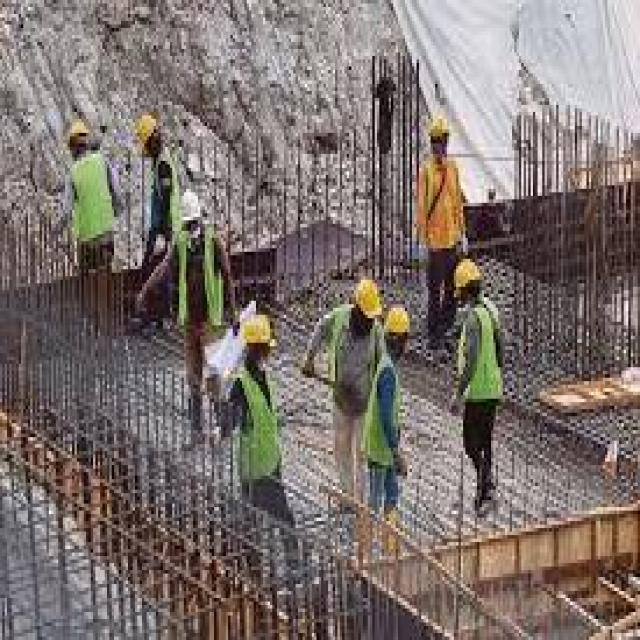Reflective-Jacket: (226, 364, 298, 496), (168, 224, 235, 350), (358, 353, 416, 472), (63, 150, 121, 259), (454, 300, 509, 412), (414, 154, 468, 259), (144, 147, 191, 238)
Safety-Helmet: (230, 297, 284, 364), (347, 269, 386, 329), (130, 105, 166, 157), (449, 255, 486, 301), (382, 297, 414, 346), (177, 185, 207, 231), (63, 112, 95, 154), (423, 105, 454, 147)
